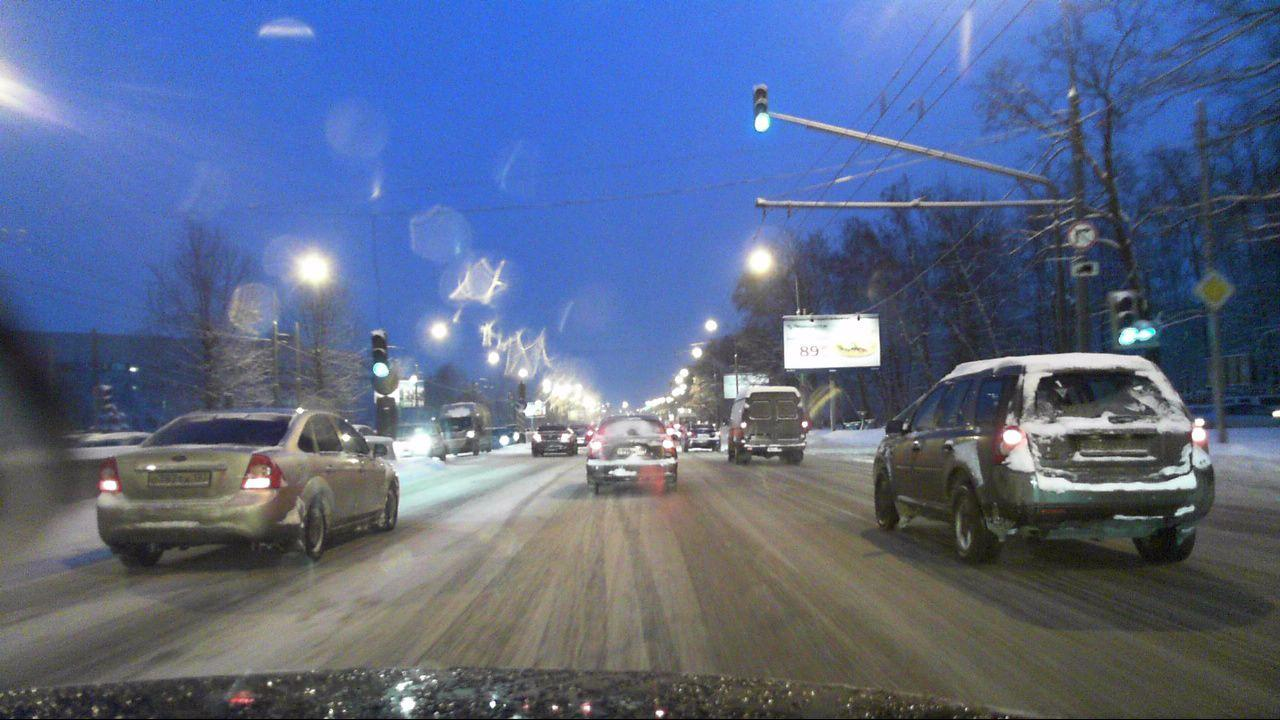2_1: (1193, 267, 1233, 310)
3_18_1: (1067, 219, 1098, 250)
8_4_1: (1068, 259, 1101, 279)
